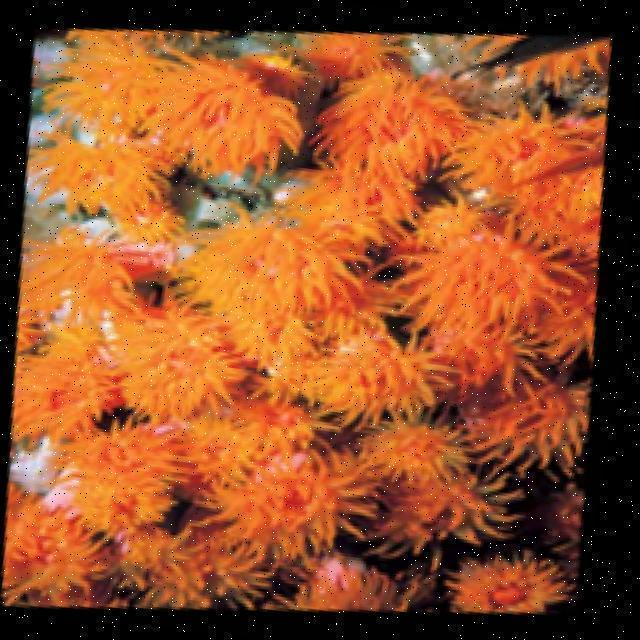Healthy Coral: (27, 50, 600, 584)
